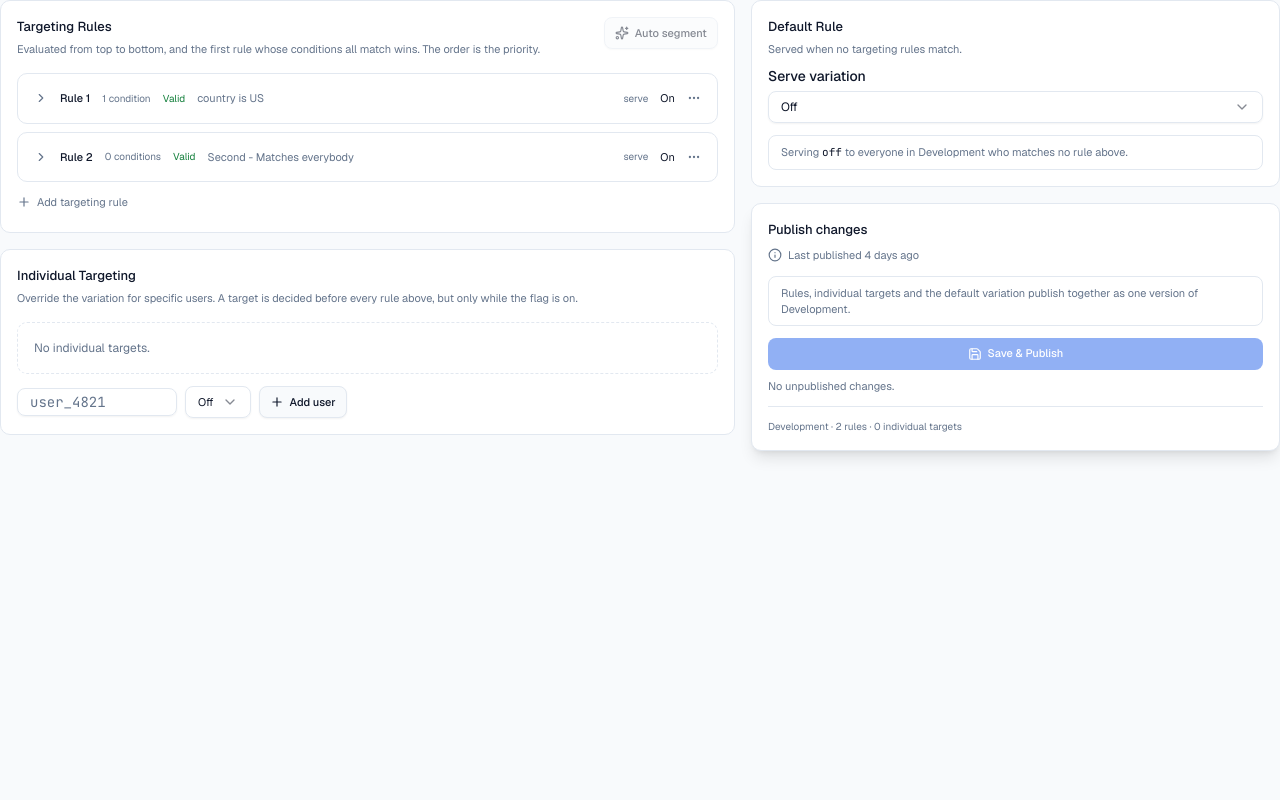
Test: the rule actions › duplicates a rule directly after the original and opens the copy
What coordinates should you click on to do the following:
click the button named "Actions for rule 1"
I would click on:
 (694, 98)
Its box is [683,87,705,109].
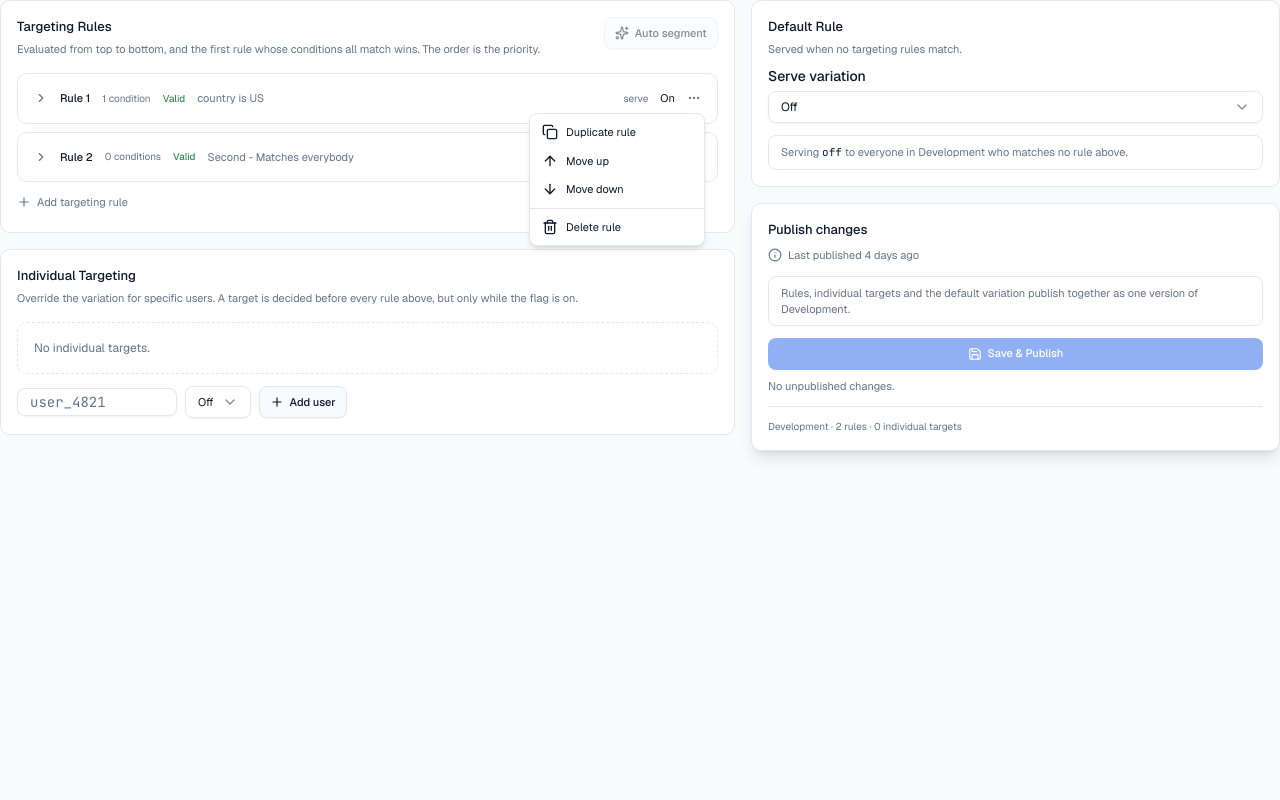
What coordinates should you click on to do the following:
click the menu item "Duplicate rule"
I would click on:
 (589, 132)
Its box is [542,124,636,140].
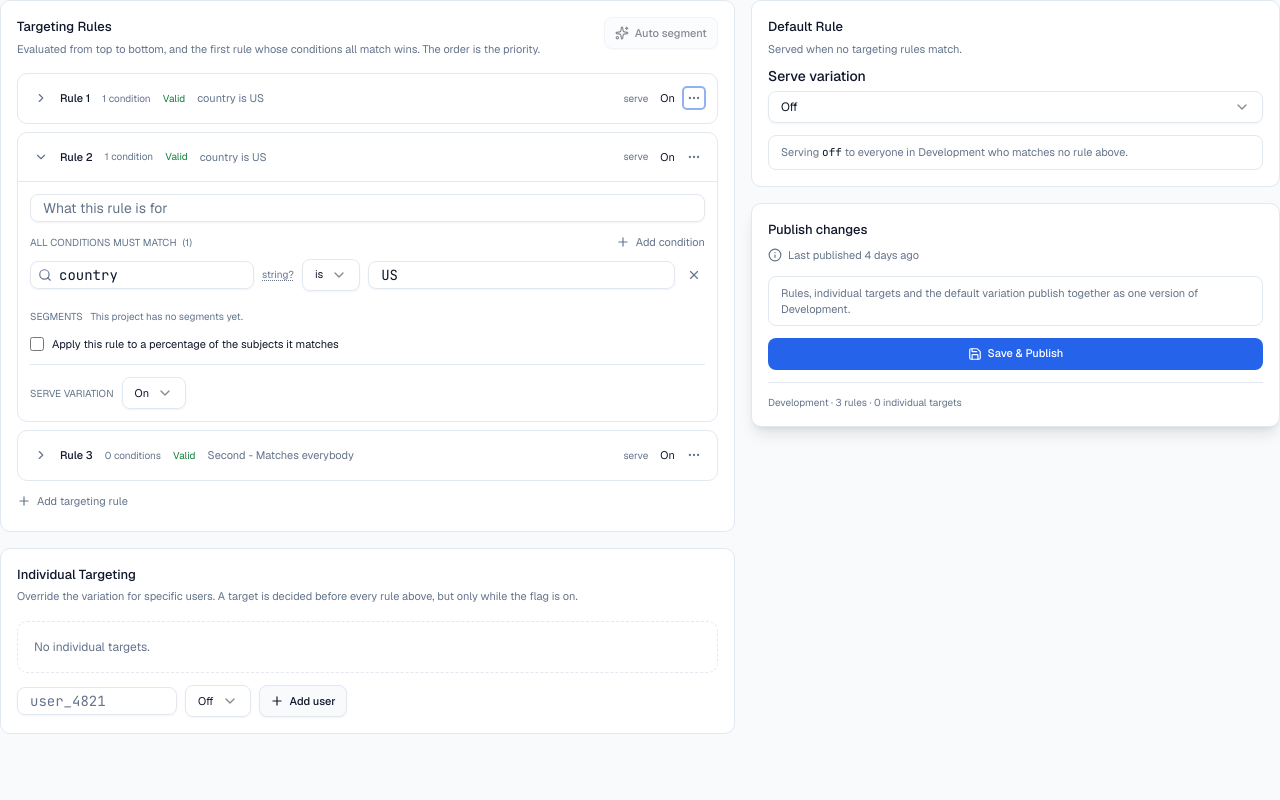
Result: the button "Rule 3" is shown at [30,443,679,468]
Result: the field named "Description for rule 2" is shown at [30,194,705,222]
